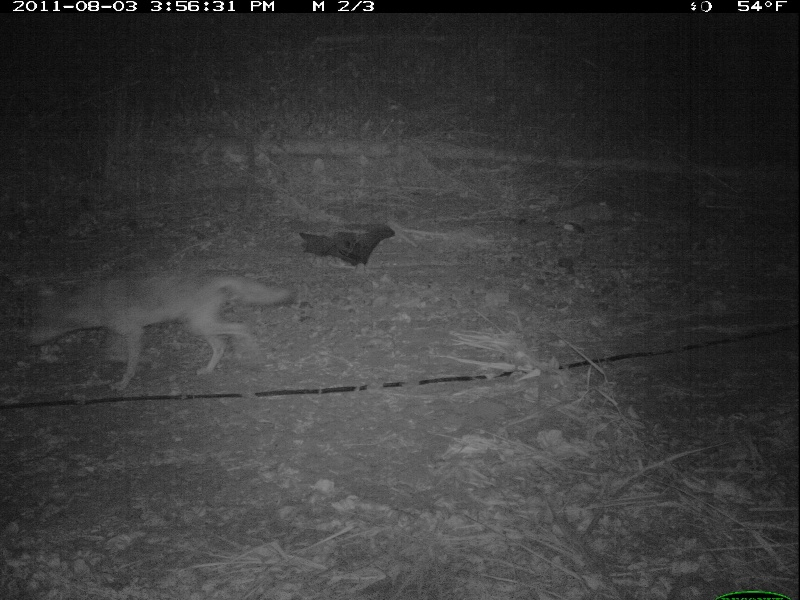coyote: (20, 267, 300, 395)
